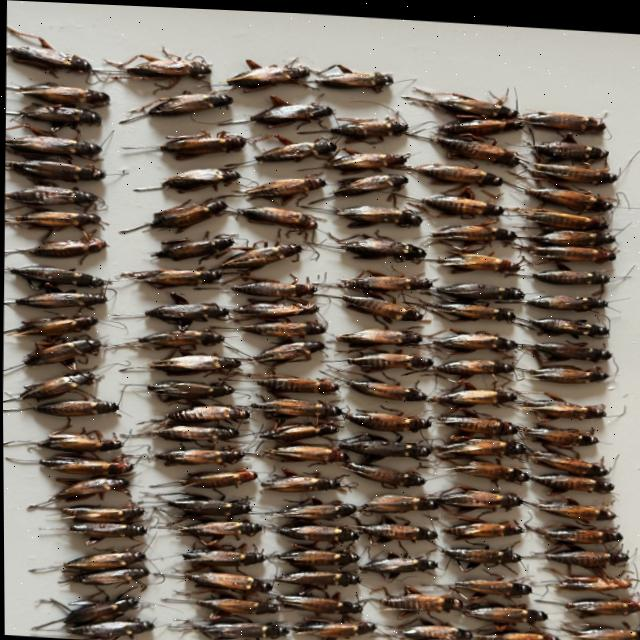egg: (111, 53, 210, 85), (27, 548, 144, 575), (2, 370, 96, 403), (38, 593, 136, 624), (219, 100, 332, 125), (401, 90, 516, 113), (236, 172, 324, 201), (225, 56, 309, 86), (134, 166, 239, 190), (159, 129, 245, 158), (221, 241, 301, 272), (148, 197, 225, 229), (167, 618, 287, 638), (41, 521, 145, 544), (432, 134, 517, 162), (3, 234, 106, 257), (504, 202, 606, 225), (131, 91, 232, 114), (519, 389, 605, 416), (397, 159, 502, 181), (4, 105, 100, 129), (40, 477, 128, 503), (150, 232, 233, 259), (5, 46, 91, 72), (428, 482, 521, 506), (336, 430, 429, 454), (112, 328, 223, 348), (125, 53, 210, 79), (340, 292, 421, 319), (2, 314, 97, 337), (4, 160, 105, 181), (120, 267, 221, 288), (22, 338, 99, 365), (254, 135, 336, 160), (526, 446, 607, 471), (434, 405, 515, 430), (524, 183, 612, 206), (8, 265, 104, 286), (4, 135, 100, 156), (334, 202, 421, 225), (341, 459, 424, 483), (63, 618, 153, 640), (144, 301, 226, 325), (460, 596, 545, 619), (17, 85, 109, 106), (148, 353, 240, 374), (524, 518, 620, 538), (3, 185, 98, 205), (160, 596, 278, 612), (37, 455, 131, 475), (531, 158, 616, 180), (340, 234, 425, 256), (28, 431, 121, 451), (127, 423, 236, 440), (232, 294, 316, 316), (249, 396, 341, 416), (251, 338, 324, 363), (236, 204, 315, 227), (521, 544, 627, 561), (430, 382, 515, 403), (329, 114, 406, 137), (390, 618, 470, 640), (372, 588, 460, 608), (440, 544, 520, 566), (359, 553, 435, 576), (516, 224, 613, 242), (46, 504, 142, 522), (3, 210, 99, 228), (430, 434, 526, 452), (146, 380, 232, 400), (519, 107, 604, 127), (431, 328, 515, 348), (347, 520, 435, 539), (2, 292, 106, 308), (532, 496, 615, 516), (255, 442, 347, 460), (183, 570, 270, 589), (342, 409, 429, 428), (161, 403, 248, 422), (332, 171, 407, 193), (421, 192, 503, 212), (436, 249, 518, 269), (423, 298, 514, 316), (344, 377, 425, 397), (527, 469, 612, 488), (276, 592, 361, 611), (346, 349, 431, 368), (430, 219, 515, 238), (290, 616, 374, 635), (249, 372, 337, 390), (435, 279, 523, 297), (257, 419, 336, 439), (274, 522, 357, 541), (449, 457, 527, 477), (325, 149, 407, 168), (523, 420, 597, 441), (62, 566, 148, 584), (334, 325, 420, 343), (518, 241, 614, 257), (559, 593, 639, 612), (336, 272, 430, 288), (530, 337, 609, 356), (180, 466, 255, 486), (271, 499, 354, 517), (529, 313, 607, 332), (433, 355, 511, 374), (30, 399, 117, 416), (532, 570, 630, 585), (315, 69, 392, 88), (229, 278, 315, 295), (152, 447, 242, 463), (528, 360, 607, 378), (358, 491, 437, 509), (178, 519, 261, 536), (438, 114, 521, 131), (452, 575, 530, 593), (275, 546, 357, 563), (239, 318, 324, 334), (180, 548, 264, 564), (166, 498, 249, 514), (452, 575, 529, 592), (441, 518, 522, 534), (526, 290, 606, 306), (273, 568, 358, 583), (260, 473, 338, 489), (570, 620, 639, 638), (471, 626, 558, 640), (531, 265, 608, 279), (3, 441, 25, 446), (58, 112, 73, 116), (478, 328, 490, 333), (426, 626, 433, 634), (567, 138, 577, 142), (102, 514, 110, 518), (62, 118, 69, 120)
